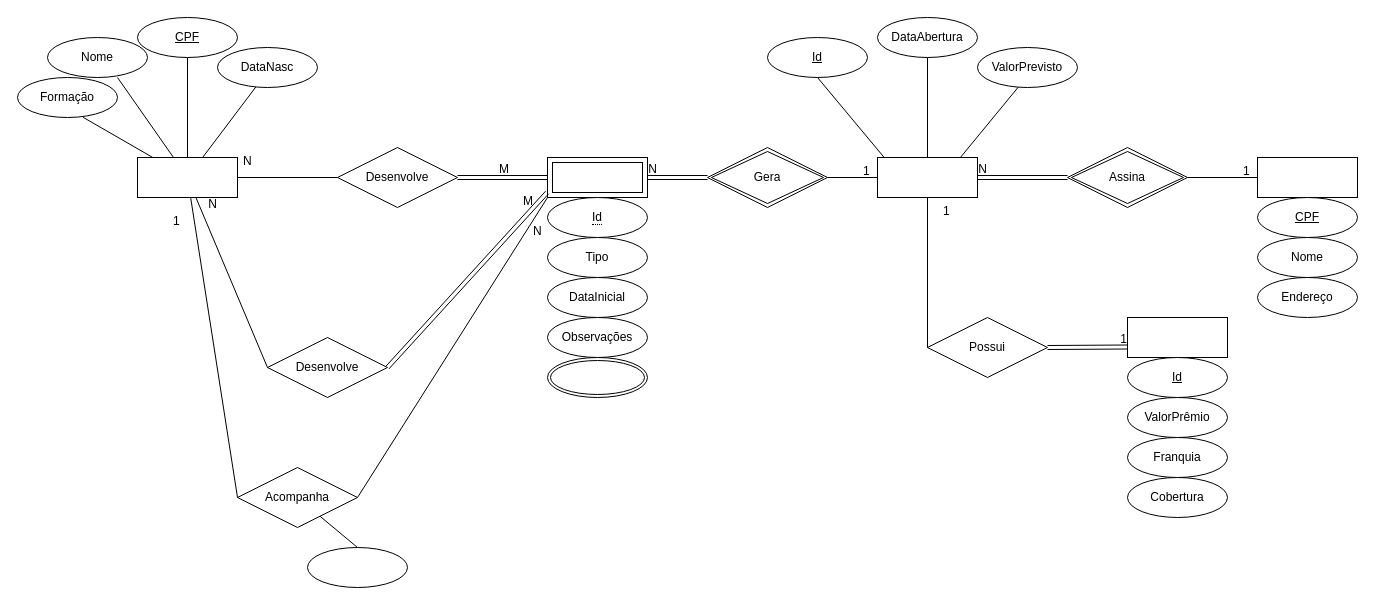
Some shapes in this 1375 by 605 pixel diagram are drawn without their labels. Here are the shapes that lost their labels. From the top down, the centre of each, then its label:
(187,177): Funcionário
(597,177): Projeto
(927,177): Contrato
(1307,177): Cliente
(1177,337): Seguro
(597,377): Arquivos PDF
(357,567): horas
